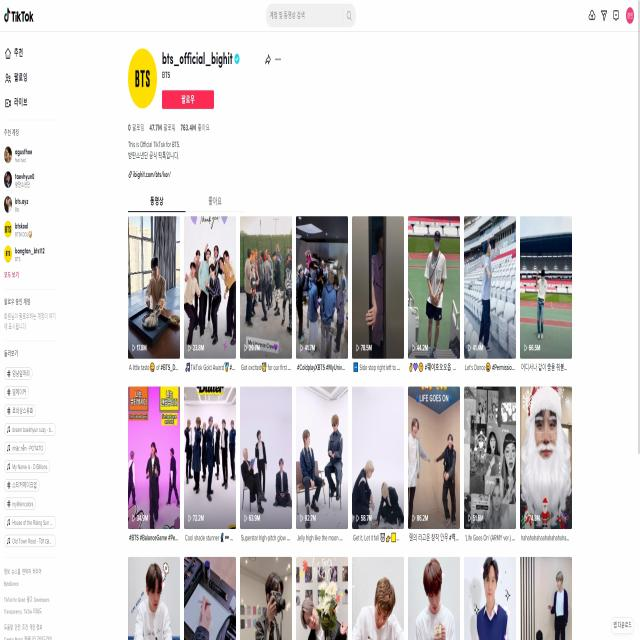menu-bar: (585, 5, 635, 24)
search: (264, 2, 358, 27)
